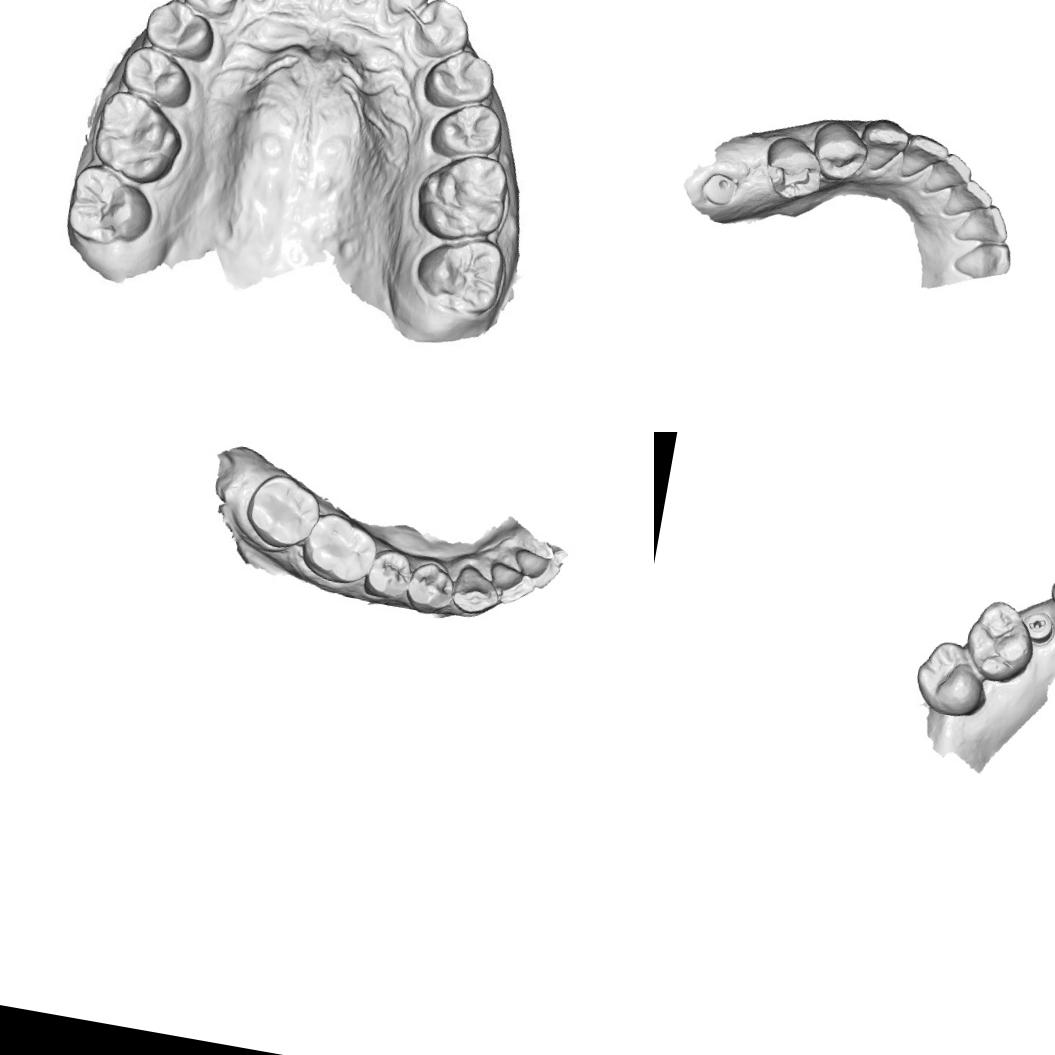canine: (854, 114, 912, 176), (446, 560, 504, 620), (410, 0, 470, 57), (950, 235, 1014, 283), (179, 0, 240, 14)
implant: (697, 168, 741, 209)
implant_minus: (1021, 607, 1055, 647)
incisor: (951, 197, 1012, 249), (897, 130, 950, 184), (483, 558, 538, 609), (922, 148, 974, 200), (507, 544, 563, 592), (941, 175, 995, 222), (379, 0, 437, 21)
molar: (88, 86, 190, 192), (414, 149, 516, 252), (411, 228, 514, 320), (956, 594, 1042, 690), (64, 162, 154, 249), (238, 466, 325, 556), (908, 634, 996, 722), (296, 507, 384, 589)
premolar: (118, 44, 204, 116), (426, 95, 506, 162), (757, 131, 829, 204), (143, 0, 222, 65), (422, 46, 496, 111), (806, 116, 872, 186), (402, 557, 458, 618), (361, 542, 416, 603)
